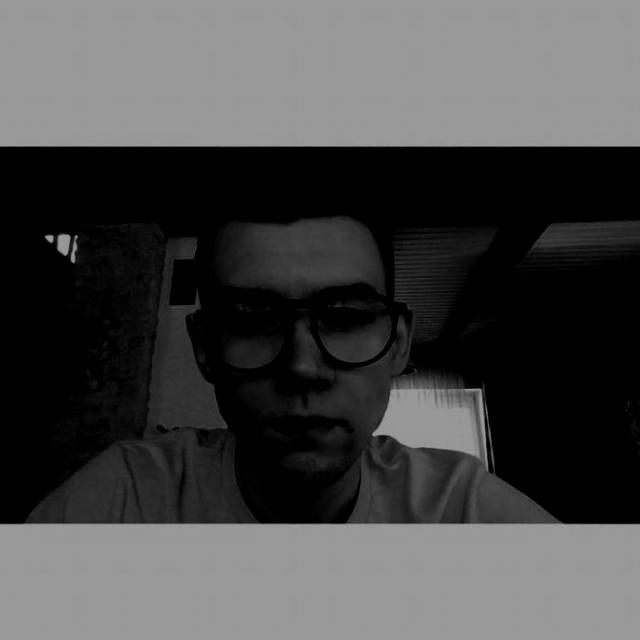real: (206, 222, 398, 490)
